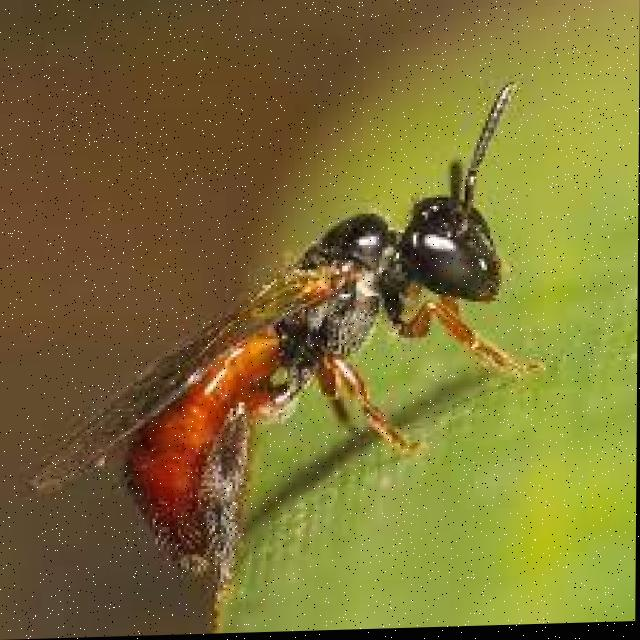Allodapula: (18, 74, 536, 600)
